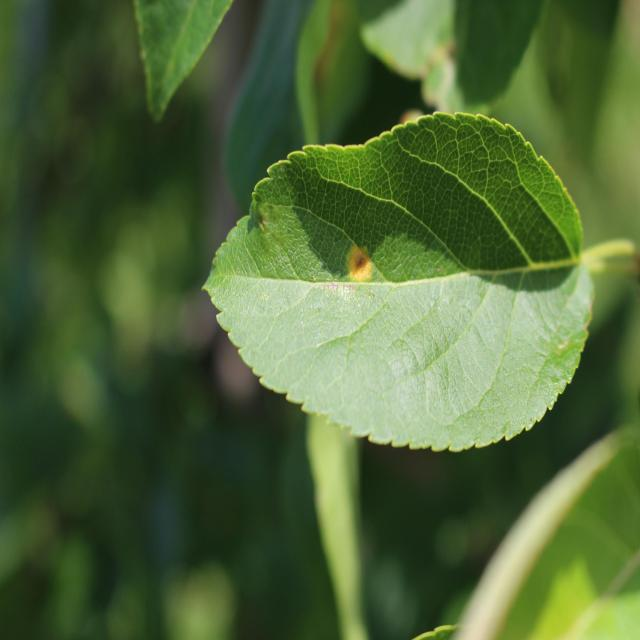Rust: (334, 228, 380, 309)
